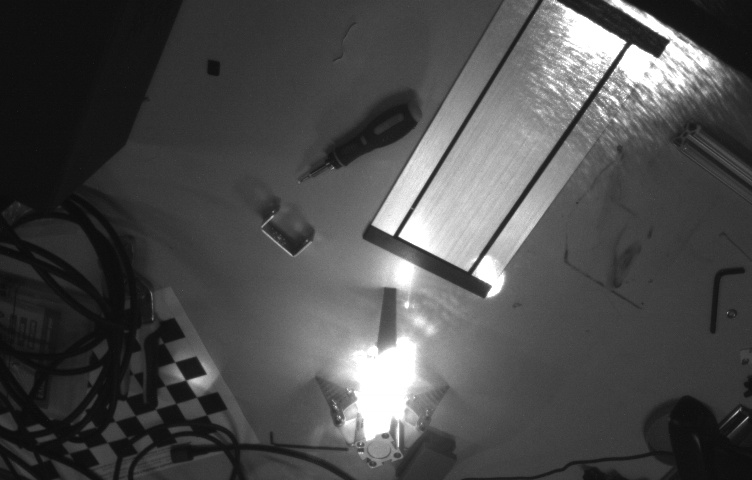Object precision screwdriver - Material rubber - Color black and orange - Pdfnam: (344, 354, 447, 445)
